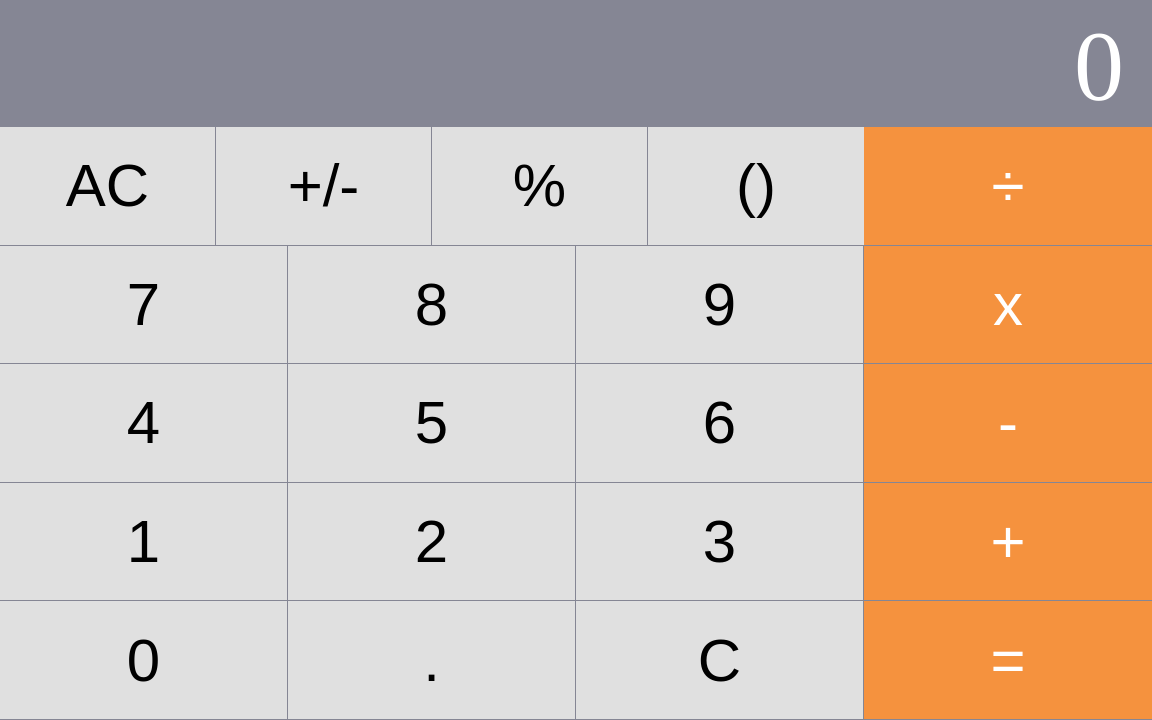
Test: 잘못된 계산 입력을 한 경우 › 소수점이 이미 존재합니다
Click the button with test id "1" at [144, 542], box [0,483,288,601]
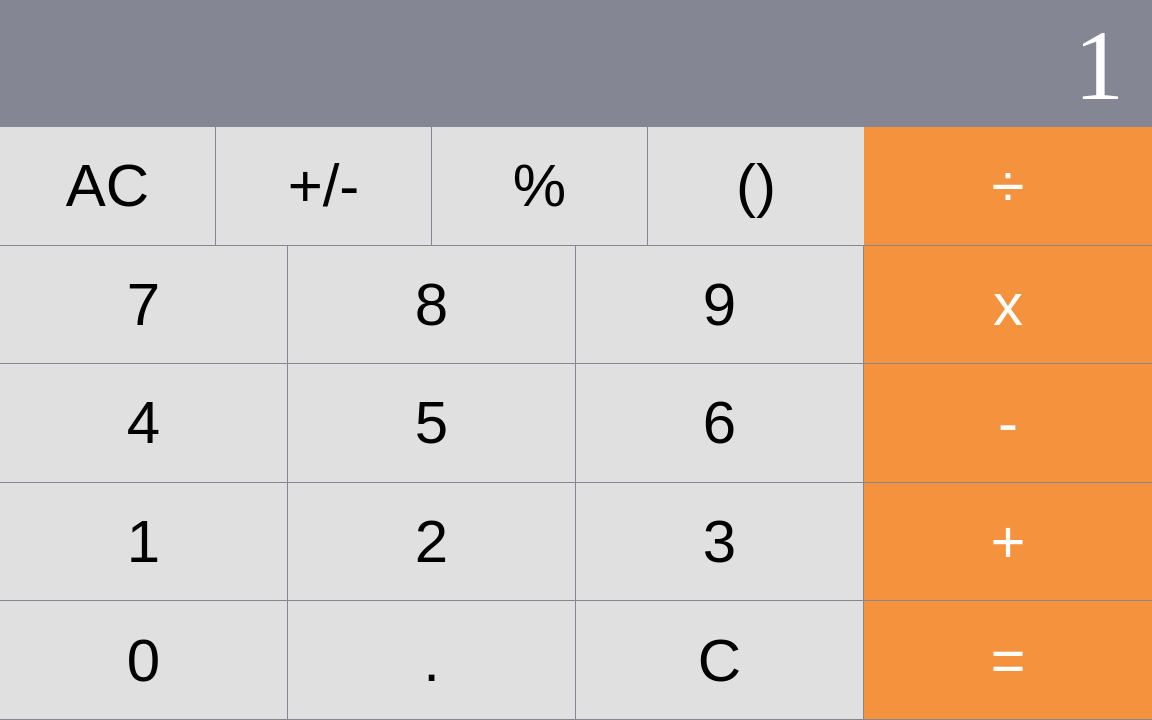
Click the button with test id "3" at [720, 542], box [576,483,864,601]
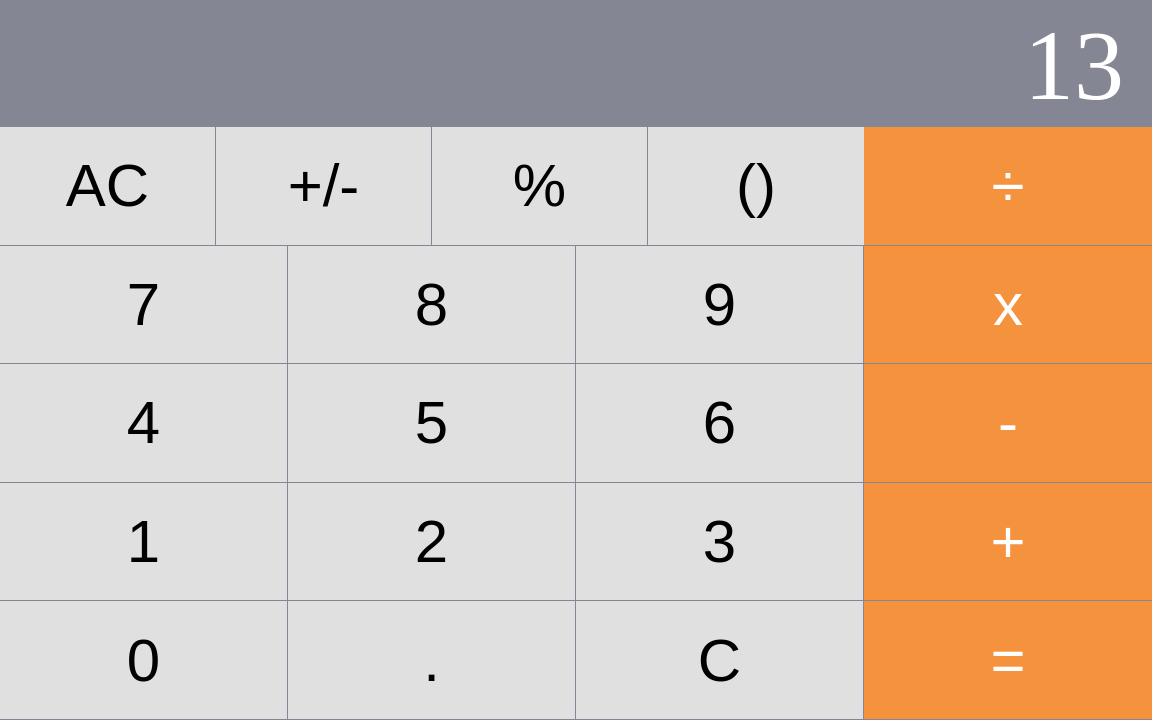
Click the button with test id "6" at [720, 423], box [576,364,864,482]
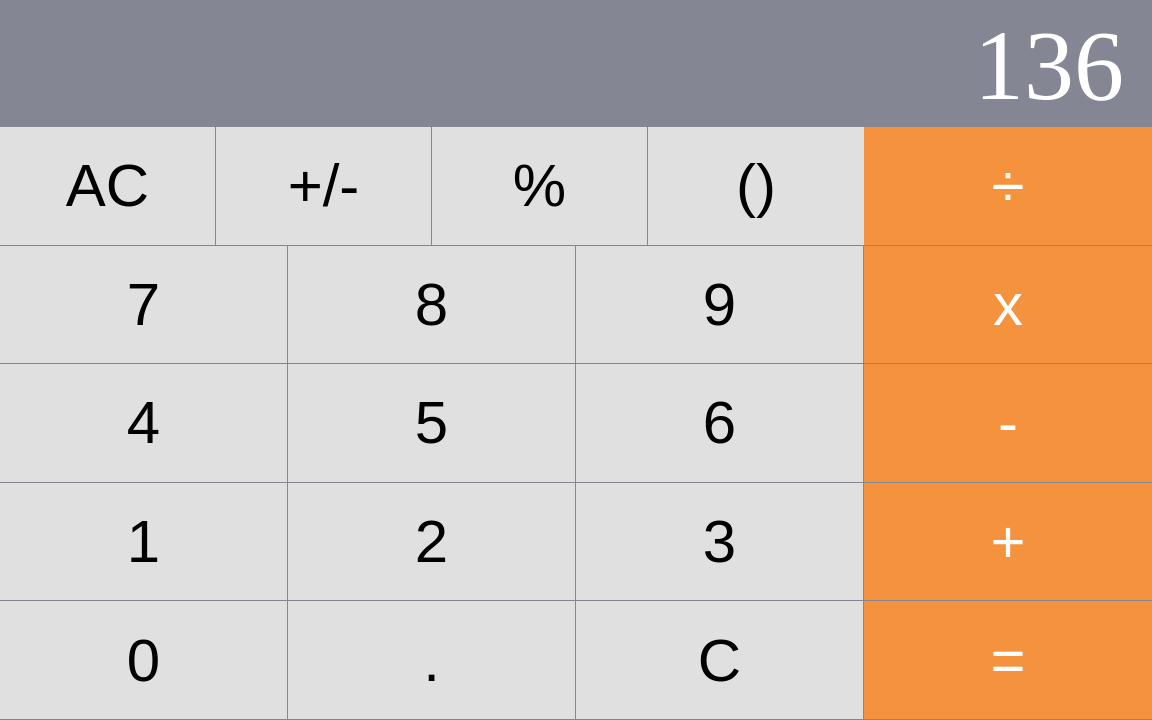
Click the button with test id "point" at [432, 660], box [288,601,576,719]
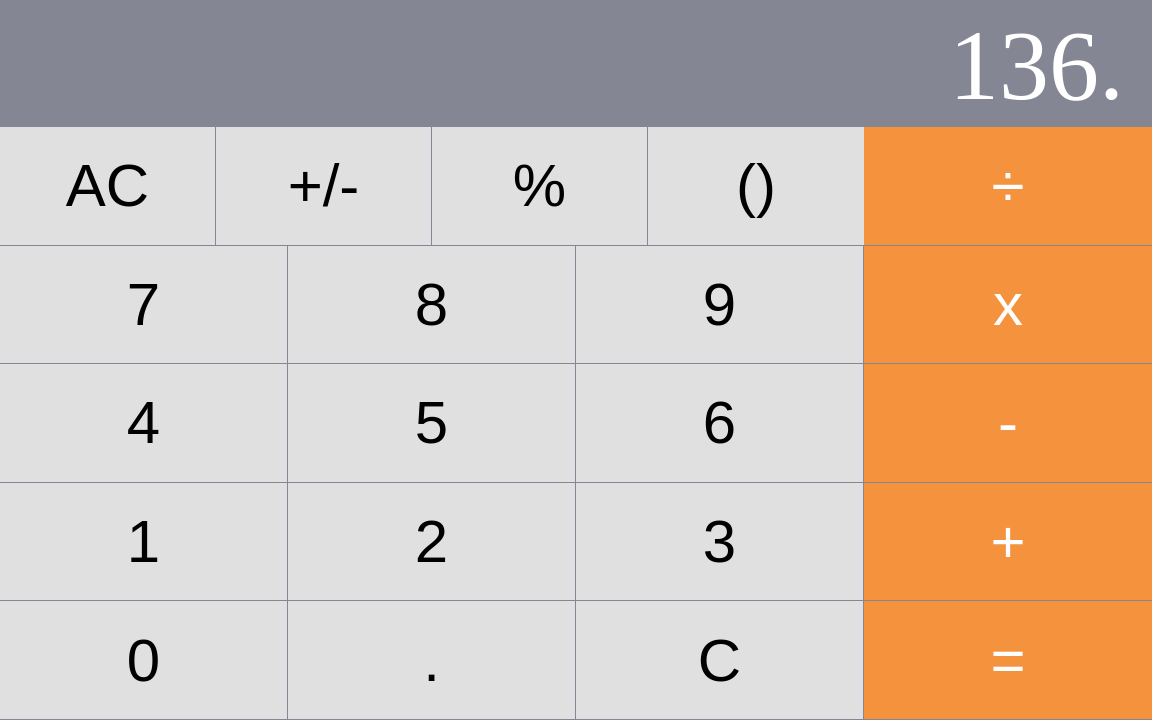
Click the button with test id "3" at [720, 542], box [576,483,864,601]
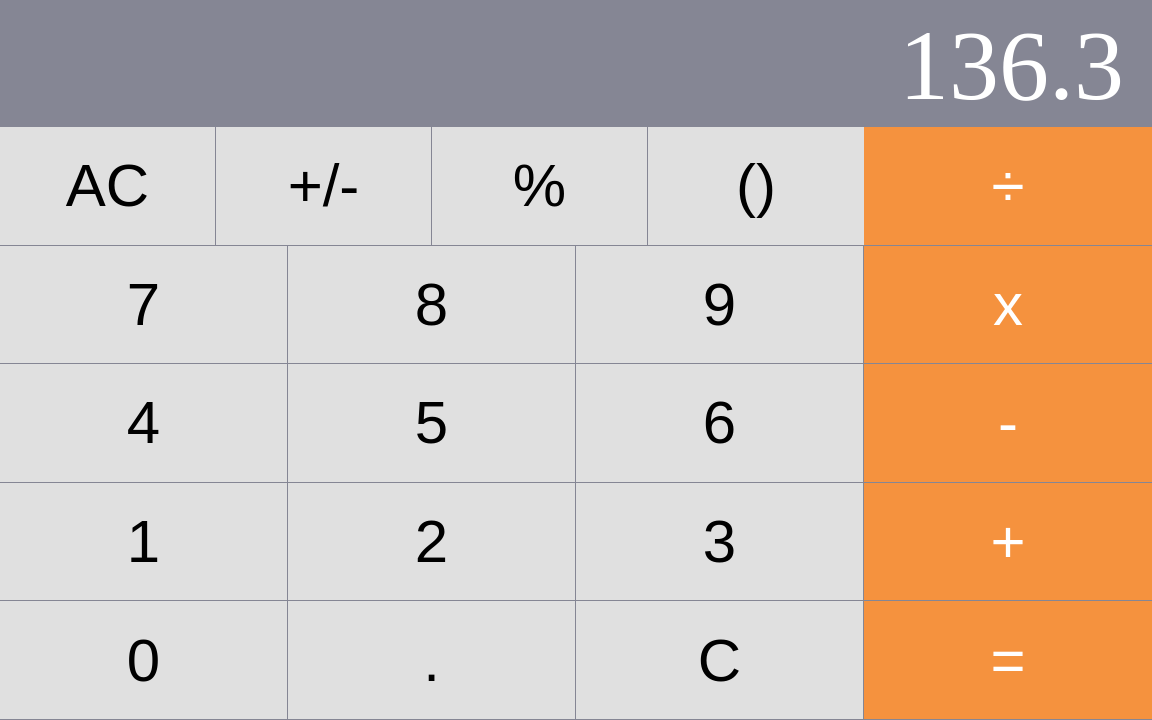
Click the button with test id "point" at [432, 660], box [288,601,576,719]
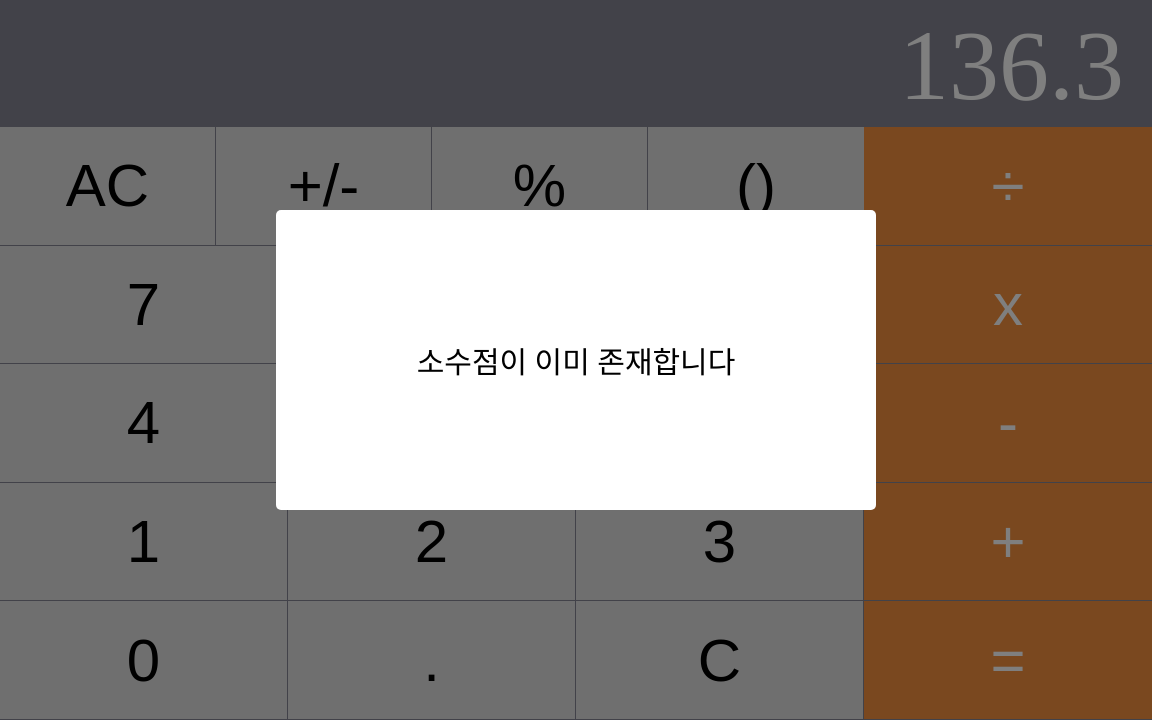
Check: the text with test id "modal" reads "소수점이 이미 존재합니다", box [417,338,736,382]
